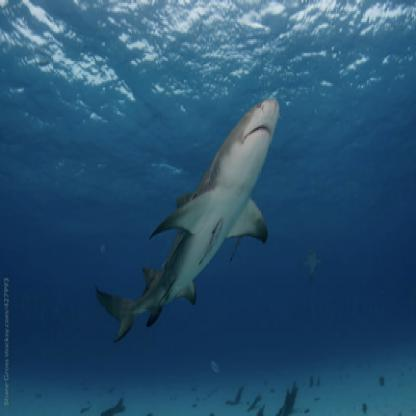Shark -Selachimorpha-: (95, 98, 282, 342)
